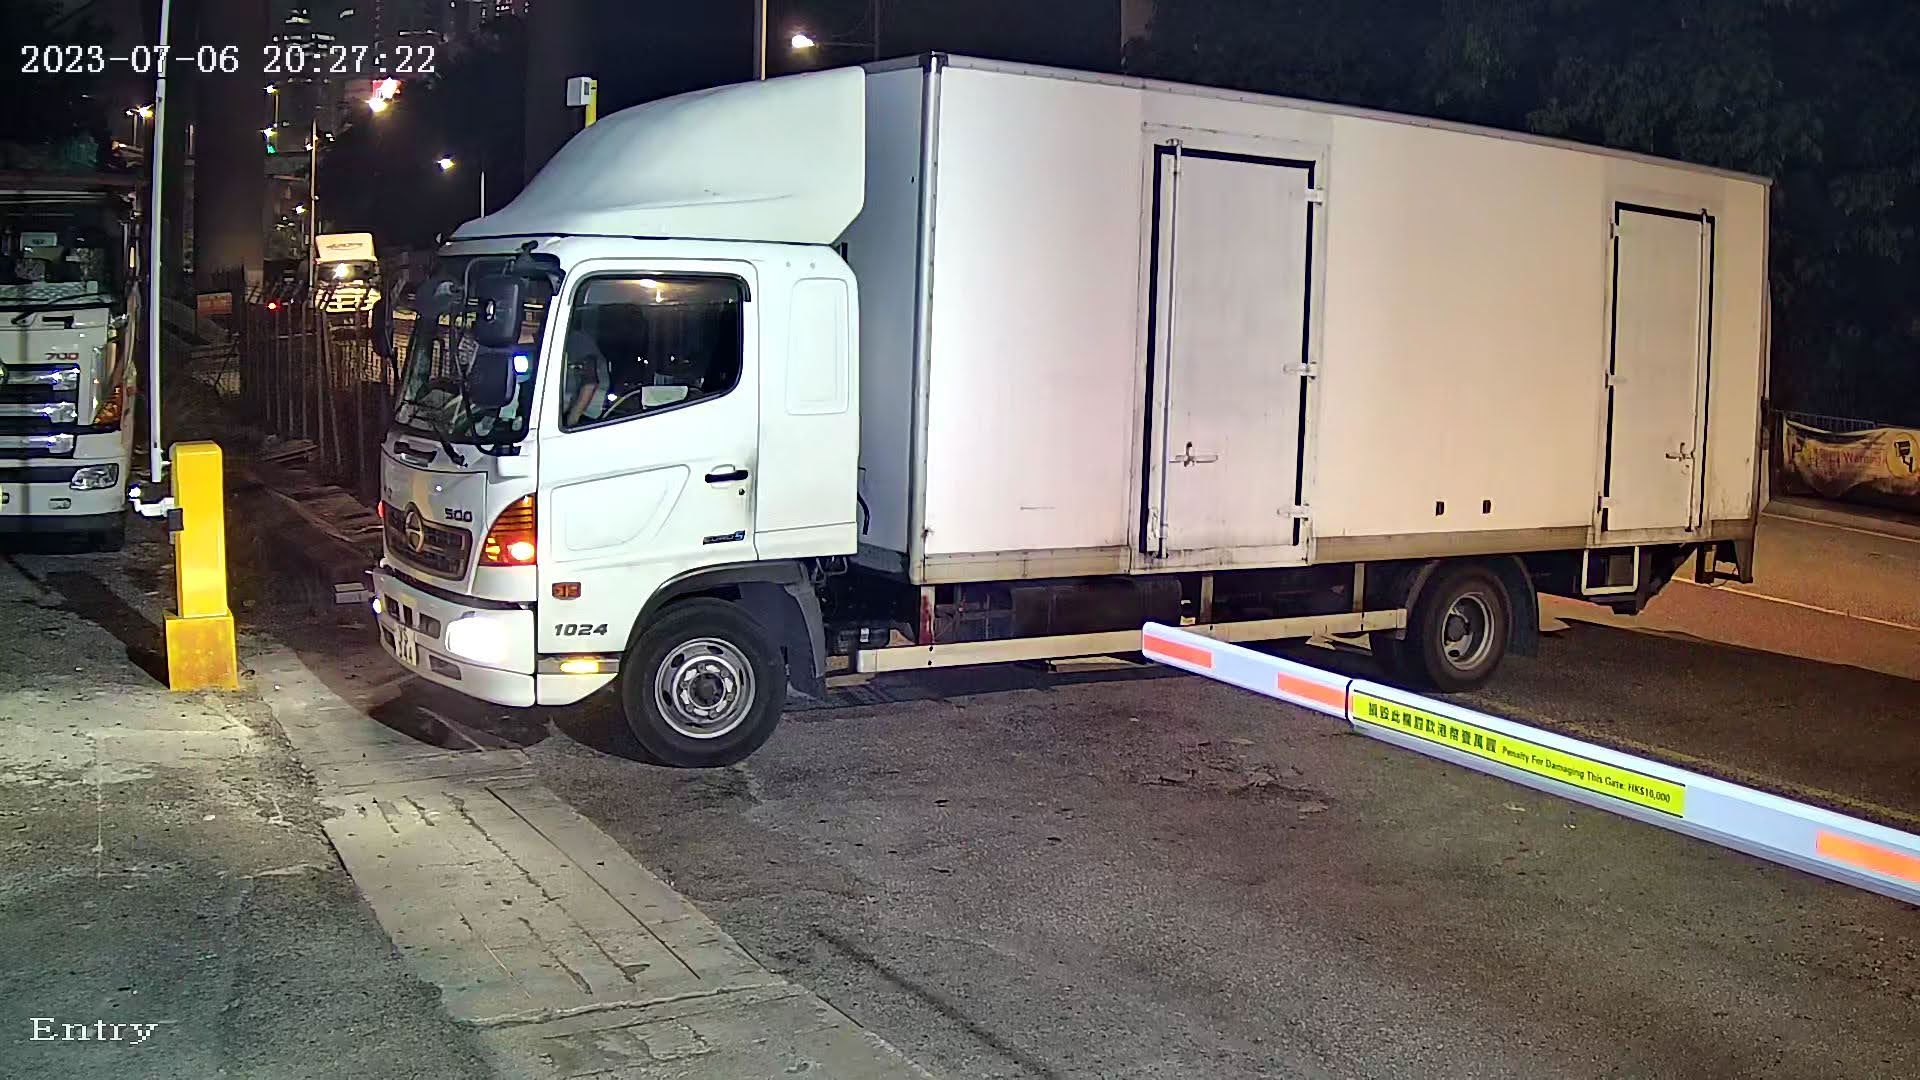truck: (323, 15, 1874, 758)
